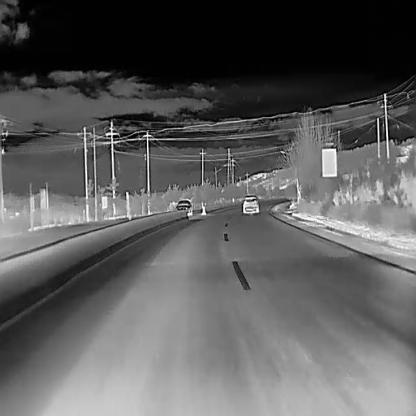car: (242, 195, 258, 212), (174, 199, 191, 213)
